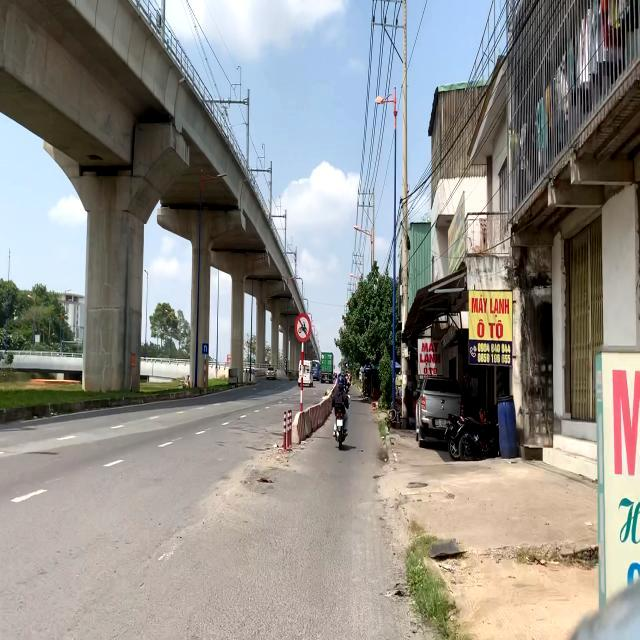Cho quay xe: (202, 343, 209, 354)
